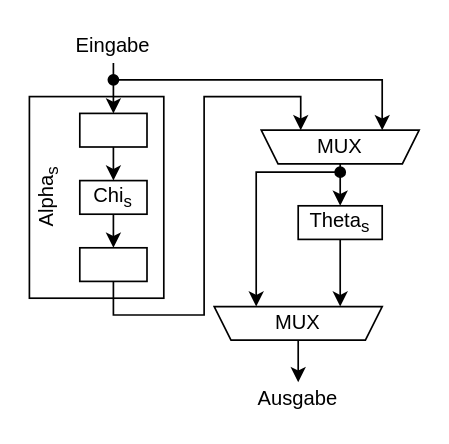
The diagram is 449 pixels wide and 444 high, and some of its shapes have lost their labels. Each missing label, with the centre of its shape:
"Iota r,s" belongs at point 112,263.
"Pi s" belongs at point 112,129.
